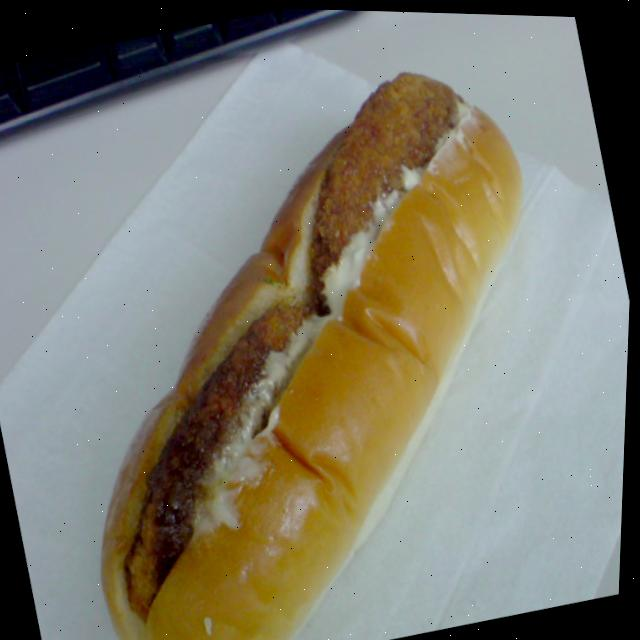三明治: (0, 7, 634, 640)
